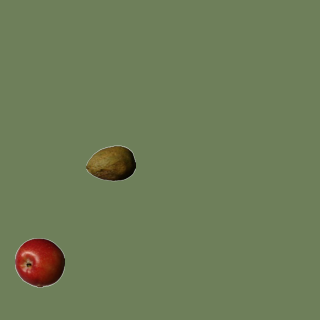Apple Braeburn: (14, 237, 64, 287)
Papaya: (85, 138, 135, 188)
